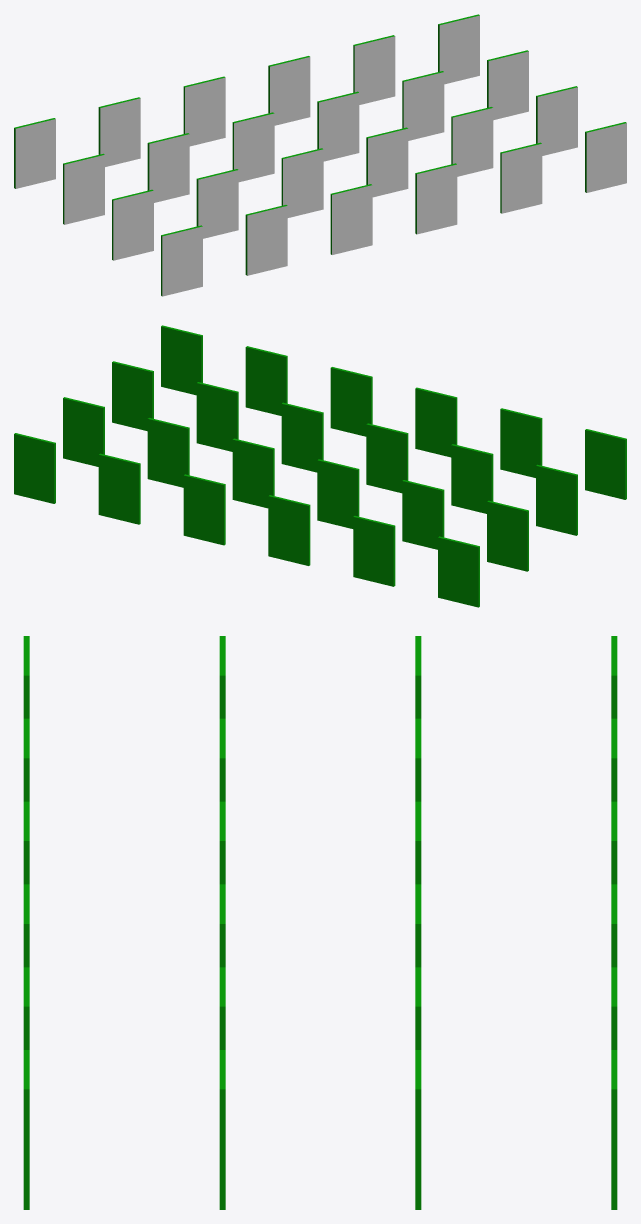
The model's file is 2020_Placas_Numero_De_Edificio_Fime.fbx.
3 views of the same model, one above another, from view 1: azimuth 30°, elevation 25°; view 2: azimuth 150°, elevation 25°; view 3: azimuth 270°, elevation 25° (orthographic). The views are drawn at different scales.
Visible parts, largest first — view 1: 2020_Placa_Numero_Edificio_4_Fime, 2020_Placa_Numero_Edificio_2_Fime, 2020_Placa_Numero_Edificio_3_Fime, 2020_Placa_Numero_Edificio_5_Fime, 2020_Placa_Numero_Edificio_13_Fime, 2020_Placa_Numero_Edificio_1_Fime, 2020_Placa_Numero_Edificio_6_Fime, 2020_Placa_Numero_Edificio_19_Fime, 2020_Placa_Numero_Edificio_7_Fime, 2020_Placa_Numero_Edificio_21_Fime, 2020_Placa_Numero_Edificio_16_Fime, 2020_Placa_Numero_Edificio_22_Fime (+12 smaller); view 2: 2020_Placa_Numero_Edificio_22_Fime, 2020_Placa_Numero_Edificio_20_Fime, 2020_Placa_Numero_Edificio_21_Fime, 2020_Placa_Numero_Edificio_23_Fime, 2020_Placa_Numero_Edificio_7_Fime, 2020_Placa_Numero_Edificio_1_Fime, 2020_Placa_Numero_Edificio_19_Fime, 2020_Placa_Numero_Edificio_24_Fime, 2020_Placa_Numero_Edificio_13_Fime, 2020_Placa_Numero_Edificio_3_Fime, 2020_Placa_Numero_Edificio_4_Fime, 2020_Placa_Numero_Edificio_10_Fime (+12 smaller); view 3: 2020_Placa_Numero_Edificio_6_Fime, 2020_Placa_Numero_Edificio_12_Fime, 2020_Placa_Numero_Edificio_18_Fime, 2020_Placa_Numero_Edificio_24_Fime.
Part boxes in pixels (x1,y1,x2,y2): 2020_Placa_Numero_Edificio_4_Fime: (415, 163, 457, 234); 2020_Placa_Numero_Edificio_2_Fime: (245, 205, 287, 275); 2020_Placa_Numero_Edificio_3_Fime: (330, 184, 372, 254); 2020_Placa_Numero_Edificio_5_Fime: (500, 142, 542, 213); 2020_Placa_Numero_Edificio_13_Fime: (63, 153, 104, 224); 2020_Placa_Numero_Edificio_1_Fime: (161, 225, 202, 296); 2020_Placa_Numero_Edificio_6_Fime: (585, 122, 626, 192); 2020_Placa_Numero_Edificio_19_Fime: (14, 118, 55, 188); 2020_Placa_Numero_Edificio_7_Fime: (112, 189, 153, 260); 2020_Placa_Numero_Edificio_21_Fime: (183, 76, 225, 146); 2020_Placa_Numero_Edificio_16_Fime: (317, 91, 359, 161); 2020_Placa_Numero_Edificio_22_Fime: (268, 56, 310, 125); 2020_Placa_Numero_Edificio_22_Fime: (183, 474, 225, 545); 2020_Placa_Numero_Edificio_20_Fime: (353, 516, 395, 586); 2020_Placa_Numero_Edificio_21_Fime: (268, 495, 310, 565); 2020_Placa_Numero_Edificio_23_Fime: (98, 453, 140, 524); 2020_Placa_Numero_Edificio_7_Fime: (536, 464, 577, 535); 2020_Placa_Numero_Edificio_1_Fime: (585, 429, 626, 499); 2020_Placa_Numero_Edificio_19_Fime: (438, 536, 479, 607); 2020_Placa_Numero_Edificio_24_Fime: (14, 433, 55, 503); 2020_Placa_Numero_Edificio_13_Fime: (487, 500, 528, 571); 2020_Placa_Numero_Edificio_3_Fime: (415, 387, 457, 457); 2020_Placa_Numero_Edificio_4_Fime: (330, 367, 372, 436); 2020_Placa_Numero_Edificio_10_Fime: (281, 402, 323, 472); 2020_Placa_Numero_Edificio_6_Fime: (23, 1050, 29, 1209); 2020_Placa_Numero_Edificio_12_Fime: (219, 1050, 225, 1209); 2020_Placa_Numero_Edificio_18_Fime: (415, 1050, 421, 1209); 2020_Placa_Numero_Edificio_24_Fime: (611, 1050, 617, 1209).
Size of the model in its own units: 548 by 67.89 by 303.
